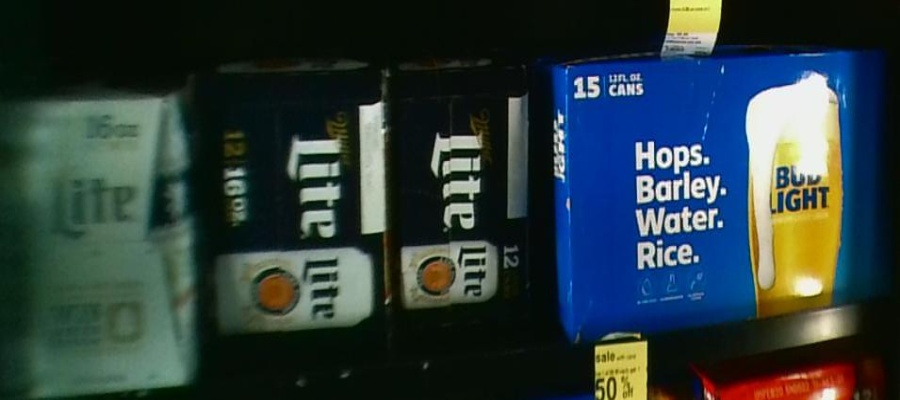bottle: (549, 53, 890, 315), (1, 98, 198, 392), (202, 67, 382, 333), (383, 63, 543, 317)
